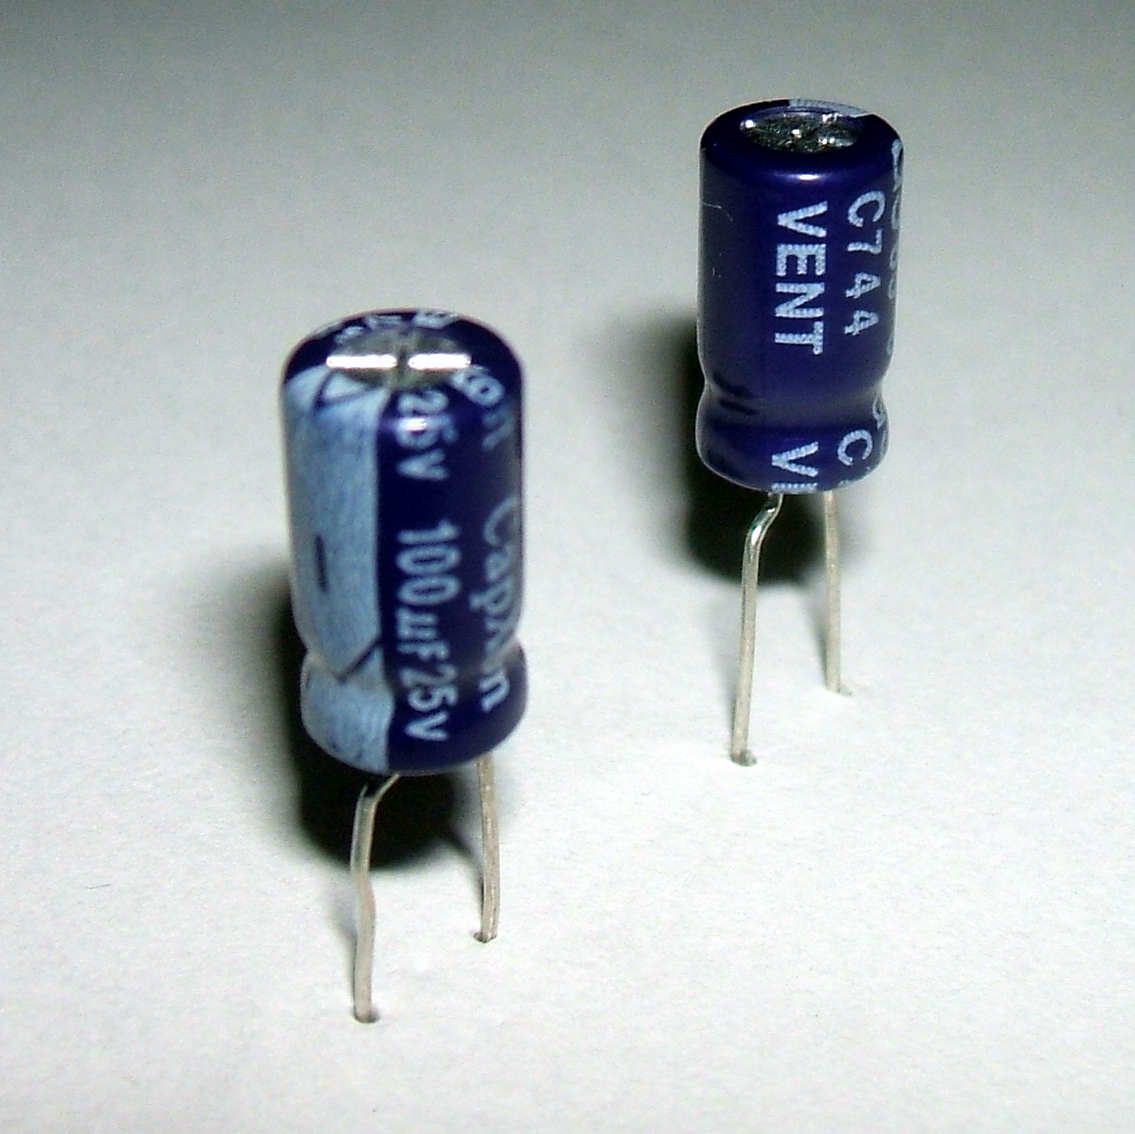Capacitor: (274, 304, 530, 779), (692, 95, 910, 497)
